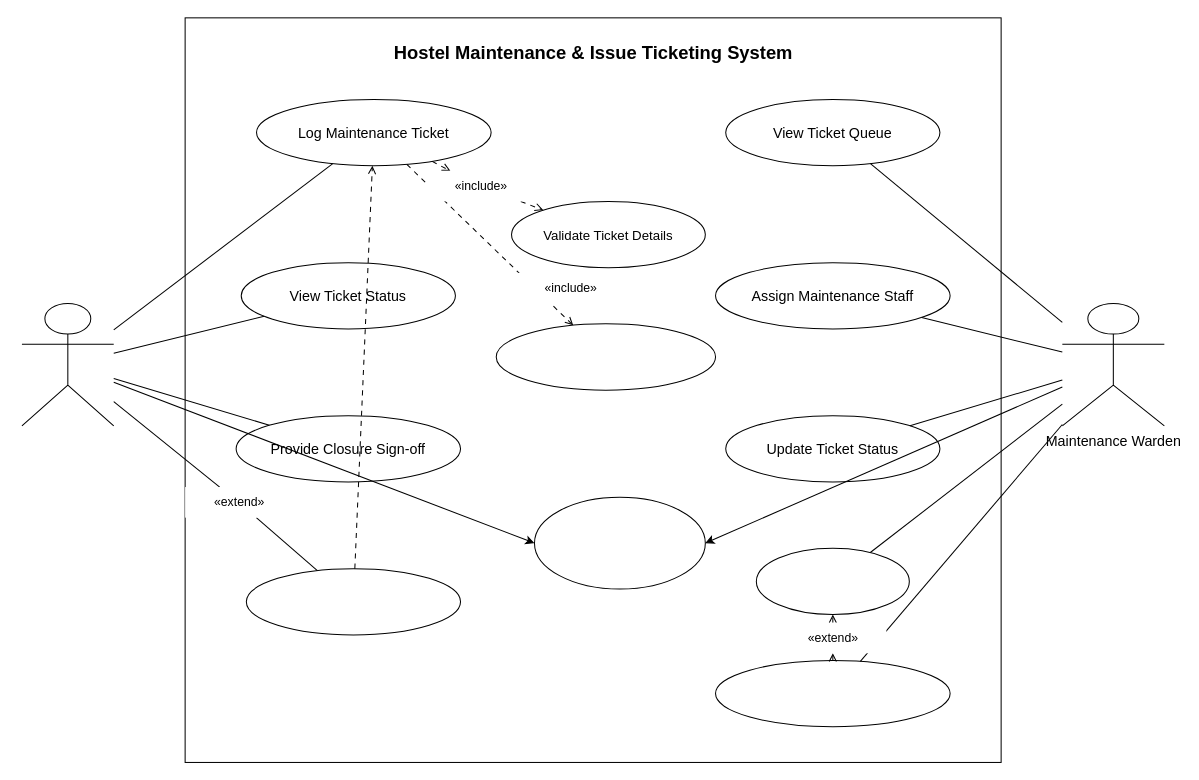
Some shapes in this 1199 by 780 pixel diagram are drawn without their labels. Each missing label, with the centre of its shape:
"Attach Photo (Optional)" goes at pixel 353 601.
"Categorize Issue & Severity" goes at pixel 605 356.
"Escalate Overdue Ticket" goes at pixel 832 693.
"Hostel Resident" goes at pixel 67 364.
"Monitor Ticket Progress" goes at pixel 619 542.
"Track SLA" goes at pixel 832 581.
